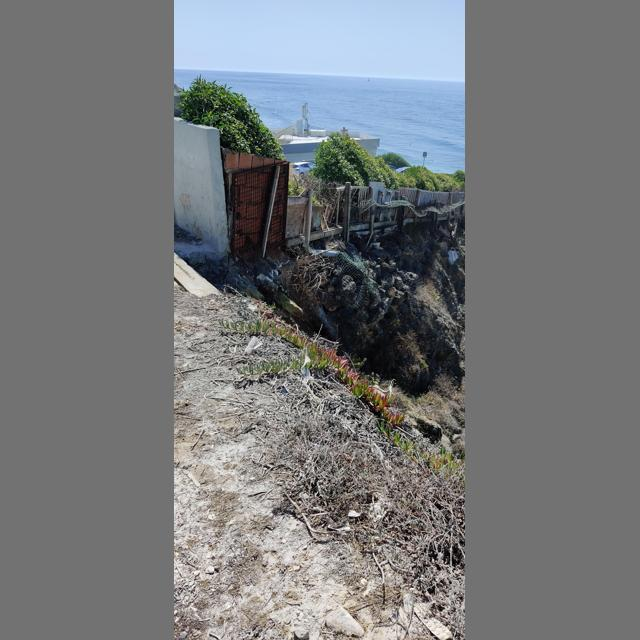litter: (414, 605, 454, 640), (404, 587, 419, 612), (245, 336, 264, 353), (301, 356, 313, 379), (328, 521, 351, 531), (282, 388, 287, 393)
